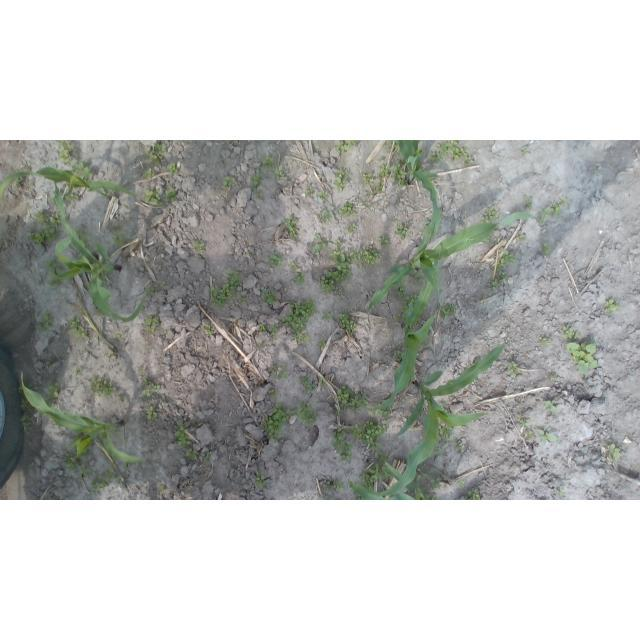Maize: (365, 343, 504, 498), (368, 210, 537, 312), (53, 182, 146, 323), (18, 373, 148, 465), (371, 247, 441, 408), (396, 141, 441, 246), (1, 164, 138, 196), (344, 462, 427, 500)
Weeds: (209, 267, 241, 309), (280, 298, 316, 335), (565, 341, 599, 375), (349, 419, 387, 449), (262, 404, 291, 441), (538, 198, 570, 227), (437, 140, 474, 165), (329, 247, 359, 277), (321, 268, 352, 296), (367, 453, 394, 480), (332, 427, 353, 461), (89, 378, 124, 397), (29, 227, 59, 248), (291, 404, 317, 427), (70, 161, 95, 184), (143, 187, 166, 209), (69, 315, 89, 340), (390, 159, 408, 185), (312, 233, 334, 254), (347, 391, 369, 412), (337, 311, 357, 333), (56, 141, 75, 164), (175, 422, 192, 447), (497, 249, 516, 271), (360, 245, 380, 265), (335, 386, 349, 414), (283, 216, 300, 239), (333, 168, 349, 192), (73, 228, 91, 249), (335, 140, 358, 156), (63, 453, 81, 473), (480, 206, 500, 224), (268, 364, 288, 381), (537, 427, 557, 444), (46, 257, 63, 276), (37, 313, 54, 332), (91, 475, 110, 492), (111, 225, 125, 248), (371, 403, 394, 417), (142, 149, 162, 165), (561, 325, 582, 340), (439, 423, 456, 441), (259, 288, 277, 304), (145, 314, 161, 332), (338, 201, 356, 217), (20, 397, 36, 415), (106, 467, 122, 485), (607, 442, 621, 462), (292, 331, 311, 345), (395, 305, 409, 324), (543, 398, 559, 414), (268, 252, 285, 267), (359, 474, 374, 491), (604, 299, 621, 314), (300, 376, 314, 394), (48, 212, 63, 228), (441, 303, 456, 319), (47, 378, 60, 396), (261, 155, 277, 169), (395, 283, 408, 300), (144, 407, 158, 422), (166, 187, 179, 203), (33, 209, 46, 225), (427, 150, 443, 163), (395, 224, 408, 240), (21, 416, 33, 433), (388, 140, 402, 154), (415, 467, 429, 481), (167, 162, 180, 177), (79, 466, 92, 481), (190, 241, 206, 253), (273, 164, 285, 180), (18, 383, 34, 395), (254, 472, 266, 488), (413, 269, 423, 288), (317, 211, 334, 222), (404, 295, 418, 308), (144, 283, 157, 297), (250, 172, 263, 186), (465, 488, 480, 500), (48, 279, 65, 289), (377, 164, 390, 177), (508, 361, 521, 374), (154, 141, 167, 153), (540, 243, 553, 255), (65, 192, 80, 202), (362, 172, 374, 184), (186, 448, 198, 460), (144, 166, 155, 179), (295, 272, 306, 285), (223, 175, 236, 186), (268, 323, 278, 337), (424, 217, 433, 232), (375, 180, 386, 192), (430, 477, 441, 489), (13, 176, 23, 189), (335, 480, 345, 493), (519, 416, 529, 429), (491, 278, 501, 291), (378, 235, 391, 245), (203, 323, 213, 335), (304, 184, 314, 196), (524, 195, 532, 209), (322, 310, 332, 321), (318, 190, 329, 200), (557, 487, 567, 498), (49, 194, 58, 206), (320, 377, 329, 389), (525, 431, 535, 441), (348, 223, 357, 234), (539, 337, 550, 346), (325, 481, 333, 493), (142, 389, 152, 398), (152, 384, 161, 393), (394, 352, 403, 361), (290, 259, 298, 269), (353, 492, 363, 500), (268, 389, 278, 397), (455, 441, 463, 451), (318, 340, 327, 348), (517, 233, 526, 241), (519, 144, 527, 153), (391, 217, 401, 224), (255, 188, 263, 196), (143, 379, 152, 386), (428, 493, 437, 500), (501, 272, 508, 281), (439, 405, 448, 412), (159, 485, 165, 495), (239, 292, 246, 300), (258, 324, 266, 331), (336, 239, 343, 247), (458, 480, 464, 488), (115, 332, 123, 338), (206, 452, 212, 459), (551, 374, 558, 380), (47, 358, 53, 364), (99, 332, 105, 337), (424, 342, 429, 347), (76, 371, 81, 376)
